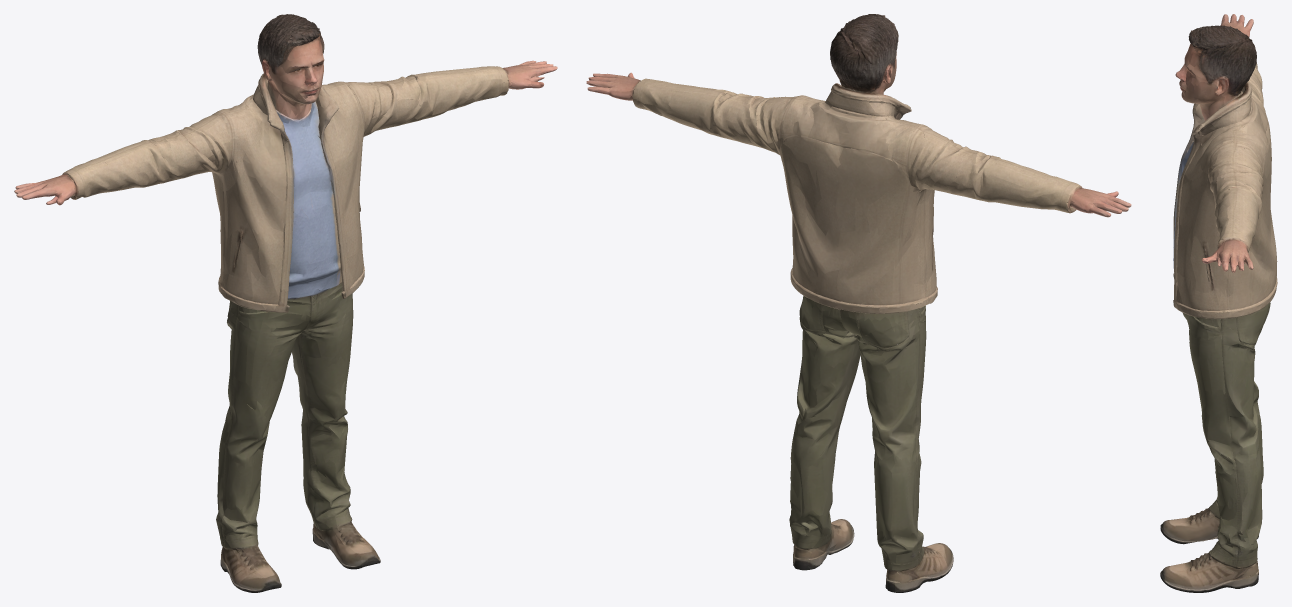
Rendered from character_n06_optimized.glb.
The picture shows the model from 3 angles, left to right: view 1: azimuth 30°, elevation 25°; view 2: azimuth 150°, elevation 25°; view 3: azimuth 270°, elevation 25°; orthographic projection. The views are drawn at different scales.
Visible parts, largest first — view 1: output_unwrapped; view 2: output_unwrapped; view 3: output_unwrapped.
Boxes of the visible parts, box(x1,y1,x2,y2) form: output_unwrapped: box(14, 14, 557, 592); output_unwrapped: box(586, 14, 1131, 592); output_unwrapped: box(1160, 14, 1277, 592).
Size of the model in its own units: 1.9 by 1.84 by 0.3667.
Materials: 1 (1 with a texture image).
